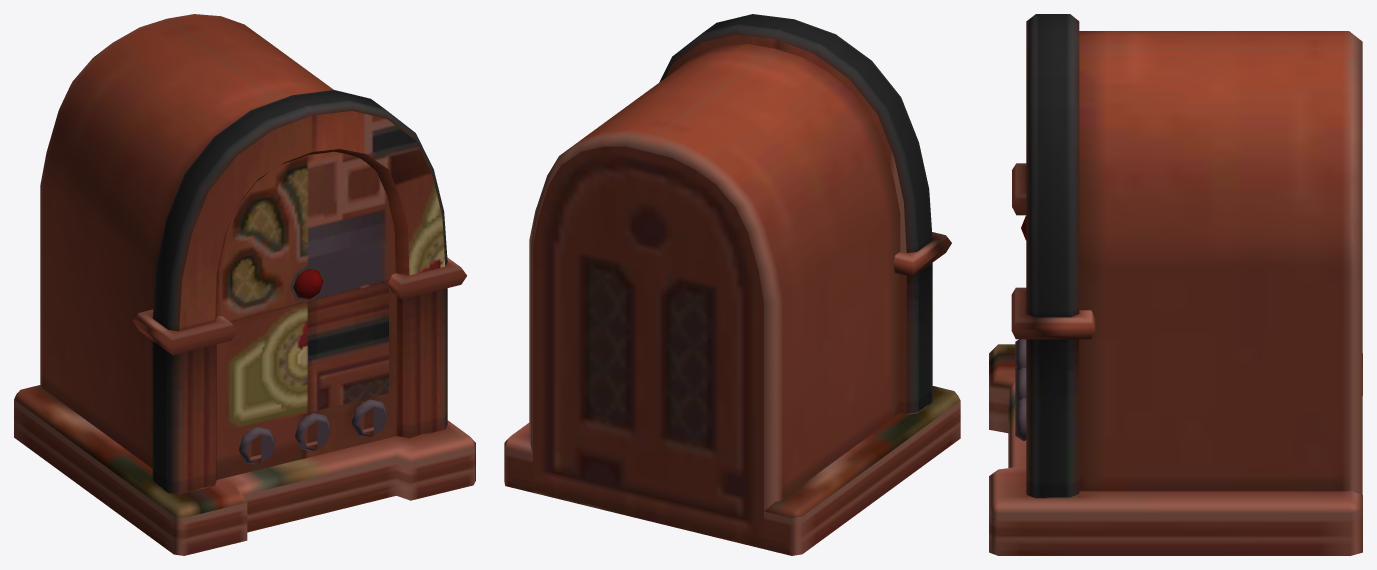
File: int_oth_radio.dae
3 views of the same model, side by side, from view 1: azimuth 30°, elevation 25°; view 2: azimuth 150°, elevation 25°; view 3: azimuth 270°, elevation 25° (orthographic). The views are drawn at different scales.
Parts seen in each view (by area): view 1: int_oth_radio; view 2: int_oth_radio; view 3: int_oth_radio.
Boxes of the visible parts, x1,y1,x2,y2 form: int_oth_radio: (14,14,475,555); int_oth_radio: (504,14,960,555); int_oth_radio: (989,14,1362,555).
Size of the model in its own units: 17.65 by 22.29 by 17.03.
Materials: 2 (2 with a texture image).
